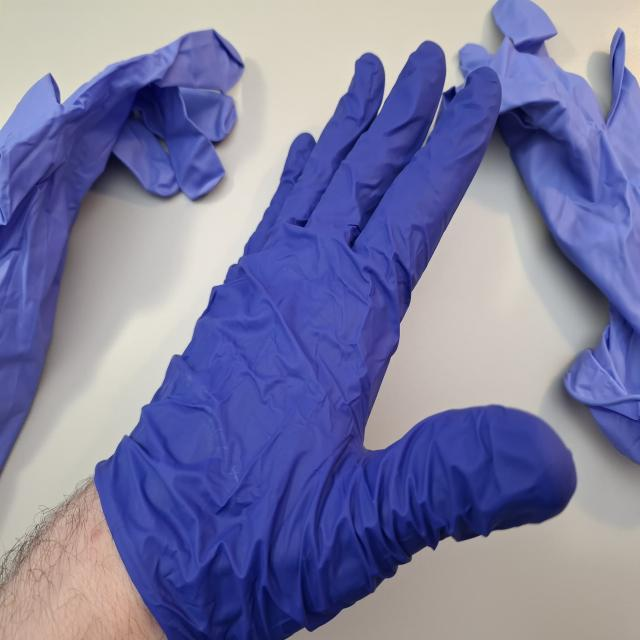glove_on: (90, 37, 581, 640)
